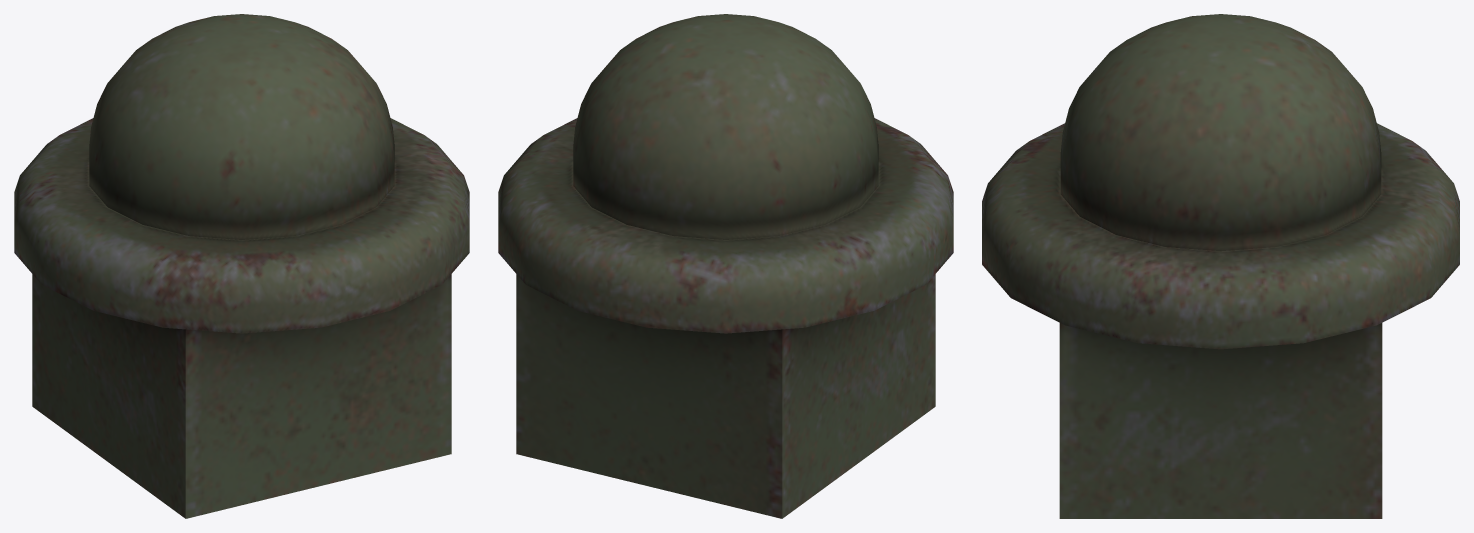
File: Vent_05.fbx
The picture shows the model from 3 angles, left to right: view 1: azimuth 30°, elevation 25°; view 2: azimuth 150°, elevation 25°; view 3: azimuth 270°, elevation 25°; orthographic projection. The views are drawn at different scales.
Parts seen in each view (by area): view 1: Vent_5; view 2: Vent_5; view 3: Vent_5.
Boxes of the visible parts, x1=… form: Vent_5: x1=14, y1=14, x2=469, y2=518; Vent_5: x1=498, y1=14, x2=953, y2=518; Vent_5: x1=982, y1=14, x2=1459, y2=518.
Size of the model in its own units: 73.78 by 69.42 by 72.66.
